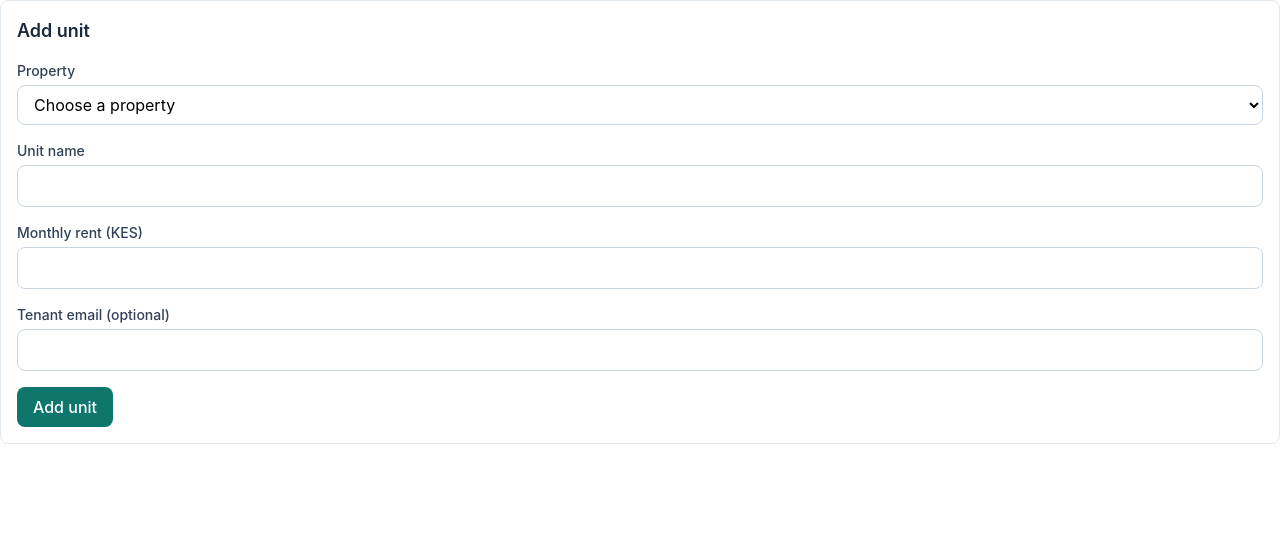
UnitForm › shows errors and does not submit when empty
What coordinates should you click on to do the following:
click the button "Add unit"
I would click on:
 (65, 407)
Its box is [17, 387, 113, 427].
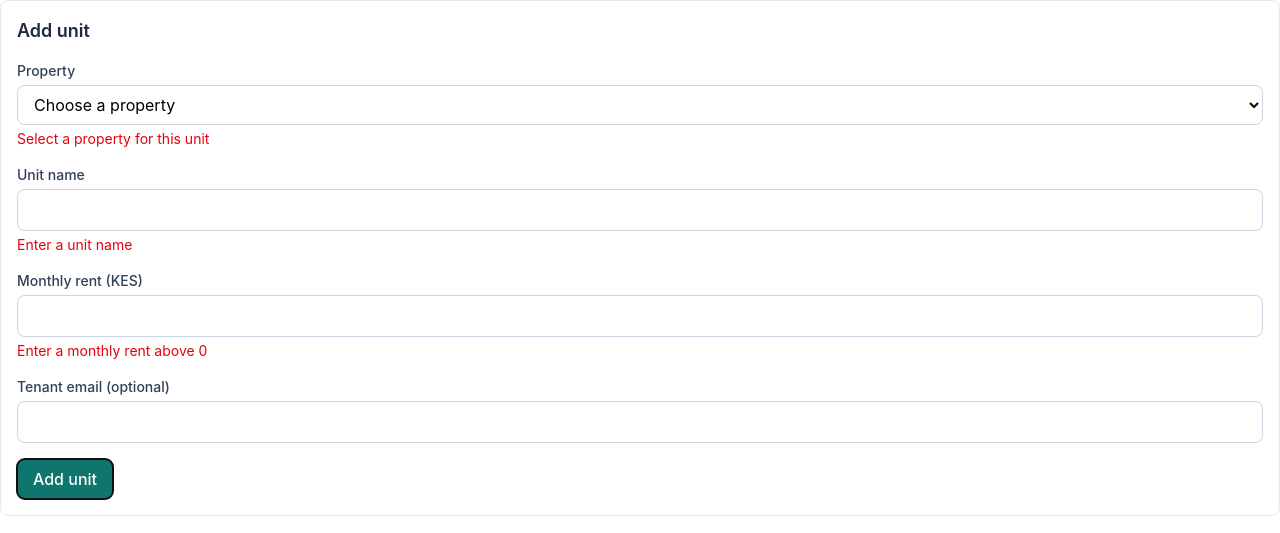
Check: the text "Select a property for this unit" is shown, box [17, 130, 209, 147]
Check: the text "Enter a unit name" is shown, box [17, 236, 132, 253]
